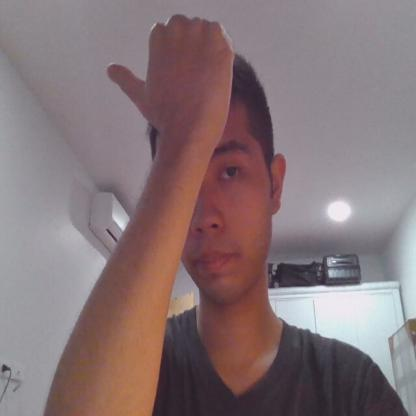right: (108, 15, 235, 144)
